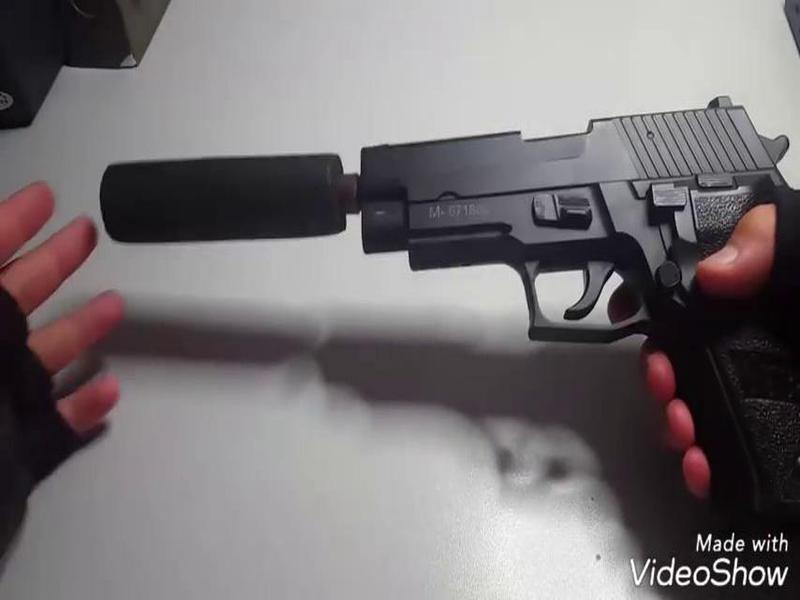Pistola: (367, 104, 800, 520)
